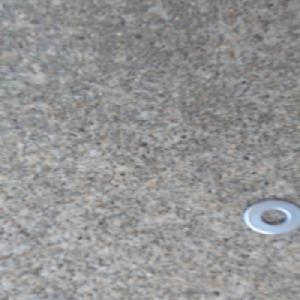Washer: (240, 197, 300, 236)
